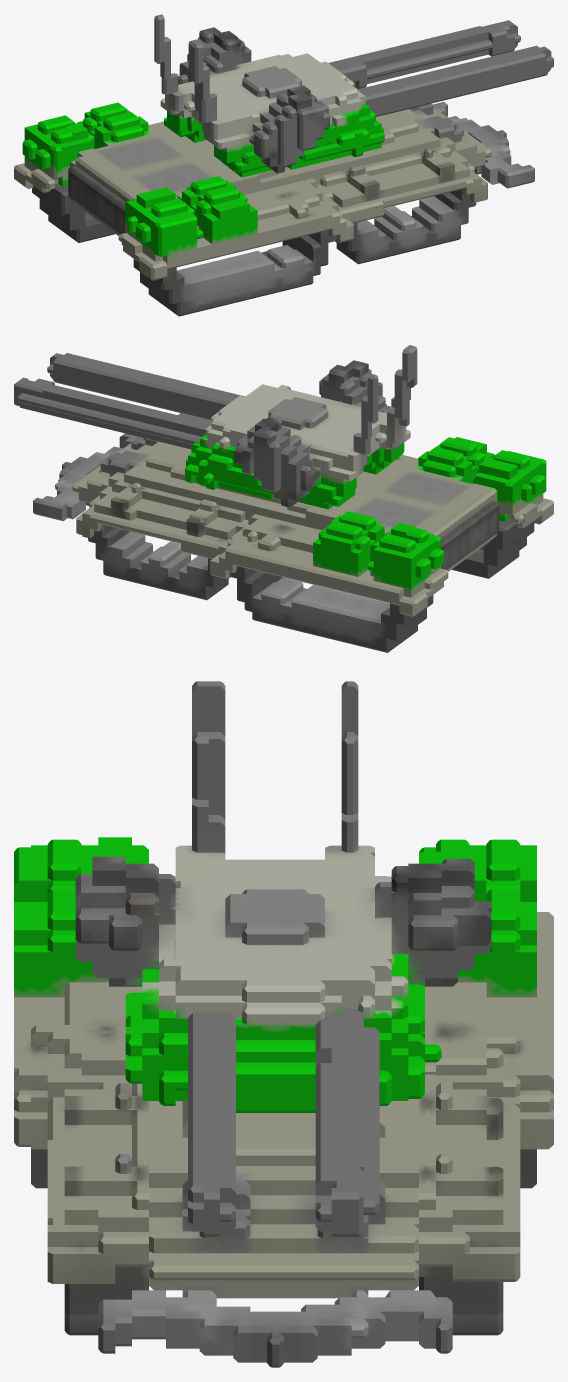
Rendered from apocalypse-tank.glb.
The picture shows the model from 3 angles, top to bottom: view 1: azimuth 30°, elevation 25°; view 2: azimuth 150°, elevation 25°; view 3: azimuth 270°, elevation 25°; orthographic projection. The views are drawn at different scales.
Visible parts, largest first — view 1: hull_dummy01, turret_dummy01 (×2); view 2: hull_dummy01, turret_dummy01 (×2); view 3: hull_dummy01, turret_dummy01 (×2).
Boxes of the visible parts, x1,y1,x2,y2 form: hull_dummy01: (14, 87, 534, 316); turret_dummy01 (×2): (154, 14, 553, 177); hull_dummy01: (33, 433, 553, 652); turret_dummy01 (×2): (14, 345, 417, 509); hull_dummy01: (14, 837, 553, 1367); turret_dummy01 (×2): (75, 681, 491, 1236).
Size of the model in its own units: 1.54 by 0.744 by 0.8317.
